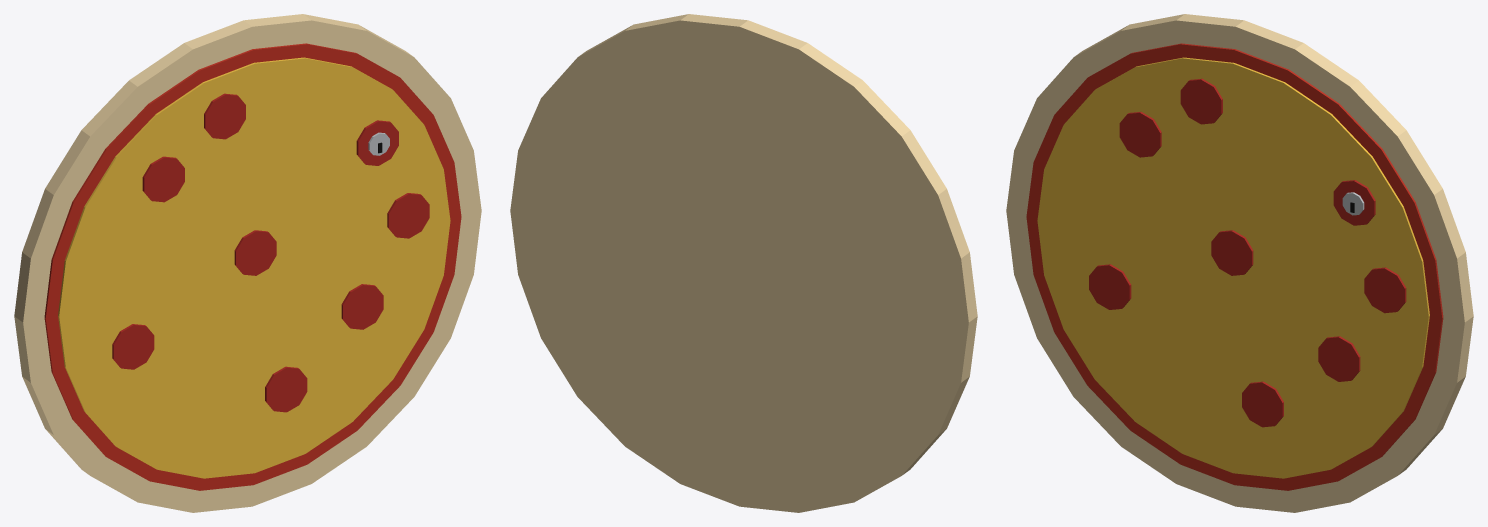
Rendered from giant_pizza_door.glb.
3 renders of one model, left to right at view 1: azimuth 30°, elevation 25°; view 2: azimuth 150°, elevation 25°; view 3: azimuth 330°, elevation 25°, orthographic.
Parts seen in each view (by area): view 1: cheese_pizza_cheese, crust_dough, sauce_pizza_sauce, pepperoni_pepperoni; view 2: crust_dough; view 3: cheese_pizza_cheese, crust_dough, sauce_pizza_sauce, pepperoni_pepperoni.
Boxes of the visible parts, x1,y1,x2,y2 form: cheese_pizza_cheese: [58, 57, 450, 478]; crust_dough: [14, 14, 481, 512]; sauce_pizza_sauce: [44, 43, 461, 490]; pepperoni_pepperoni: [112, 93, 429, 412]; crust_dough: [510, 14, 977, 512]; cheese_pizza_cheese: [1037, 57, 1429, 478]; crust_dough: [1006, 14, 1473, 512]; sauce_pizza_sauce: [1026, 43, 1443, 490]; pepperoni_pepperoni: [1089, 78, 1406, 427].
Size of the model in its own units: 1.5 by 1.5 by 0.082.
